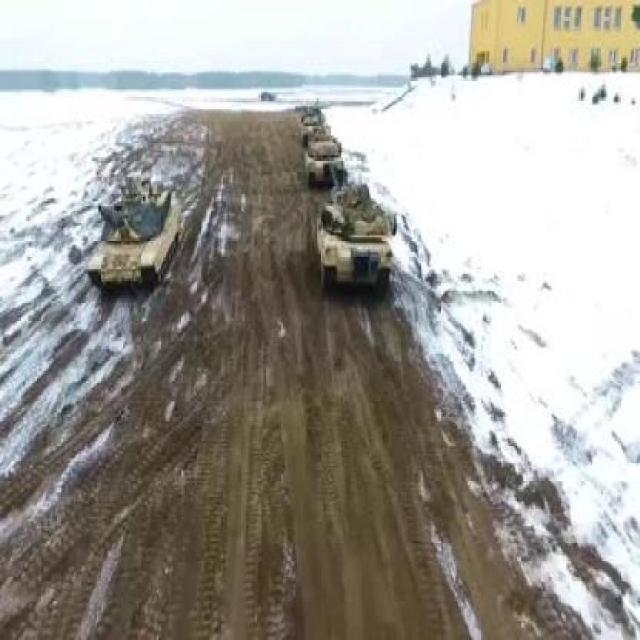MIL_MBT: (92, 174, 181, 298), (318, 181, 400, 302), (305, 128, 345, 192)
